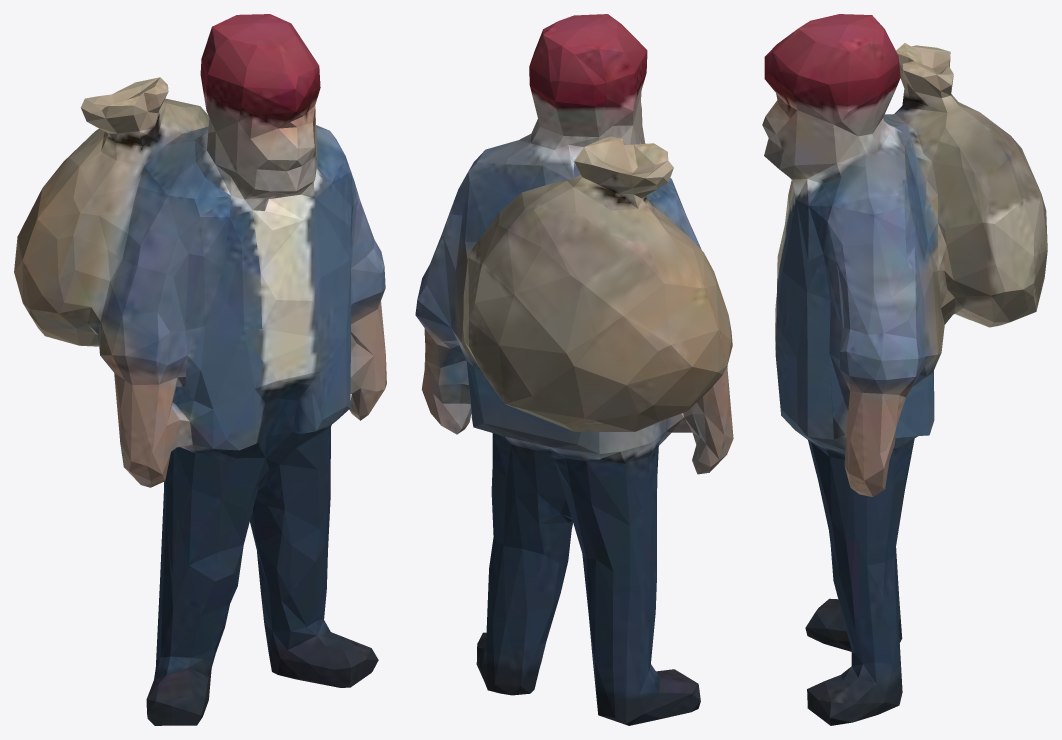
The model's file is habitant-loin.glb.
3 renders of one model, left to right at view 1: azimuth 30°, elevation 25°; view 2: azimuth 150°, elevation 25°; view 3: azimuth 270°, elevation 25°, orthographic. The views are drawn at different scales.
Parts seen in each view (by area): view 1: habitant; view 2: habitant; view 3: habitant.
Boxes of the visible parts, x1,y1,x2,y2 form: habitant: (14, 14, 386, 725); habitant: (415, 14, 733, 725); habitant: (762, 14, 1047, 725).
Bounding box in the file's own units: 0.5195 × 1.01 × 0.4.
Materials: 1 (1 with a texture image).
